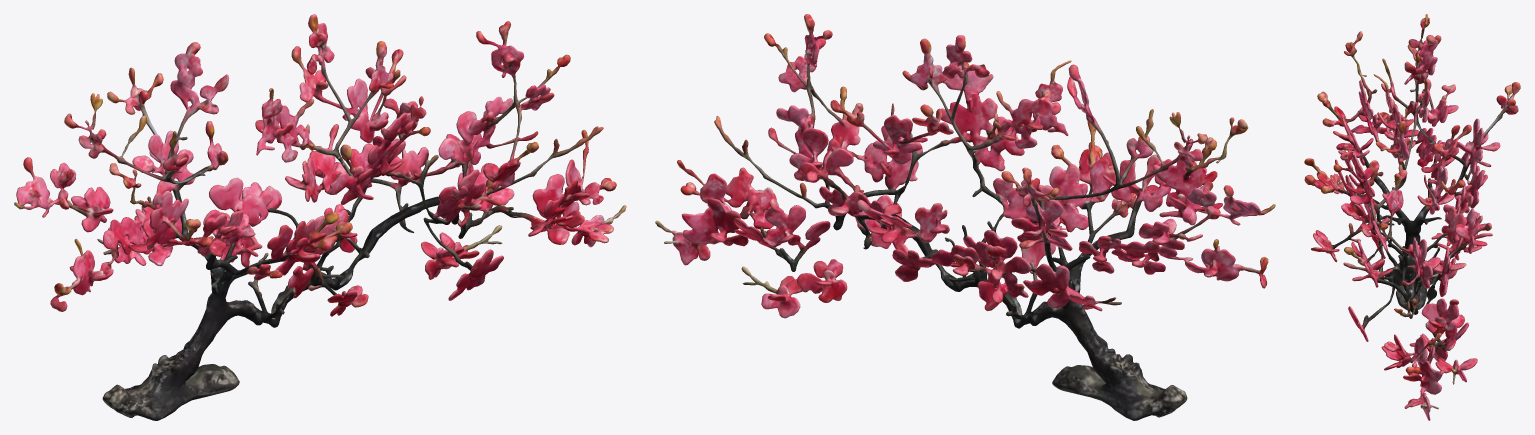
Rendered from peach_flowersea.glb.
3 views of the same model, side by side, from view 1: azimuth 30°, elevation 25°; view 2: azimuth 150°, elevation 25°; view 3: azimuth 270°, elevation 25° (orthographic). The views are drawn at different scales.
Parts seen in each view (by area): view 1: tripo_node_98ecdf93-6bb1-4748-b79f-ef65a3d30589; view 2: tripo_node_98ecdf93-6bb1-4748-b79f-ef65a3d30589; view 3: tripo_node_98ecdf93-6bb1-4748-b79f-ef65a3d30589.
Boxes of the visible parts, x1=… form: tripo_node_98ecdf93-6bb1-4748-b79f-ef65a3d30589: x1=14, y1=14, x2=626, y2=420; tripo_node_98ecdf93-6bb1-4748-b79f-ef65a3d30589: x1=655, y1=14, x2=1275, y2=420; tripo_node_98ecdf93-6bb1-4748-b79f-ef65a3d30589: x1=1304, y1=14, x2=1520, y2=420.
Size of the model in its own units: 0.9797 by 0.5203 by 0.3787.
Materials: 1 (1 with a texture image).
